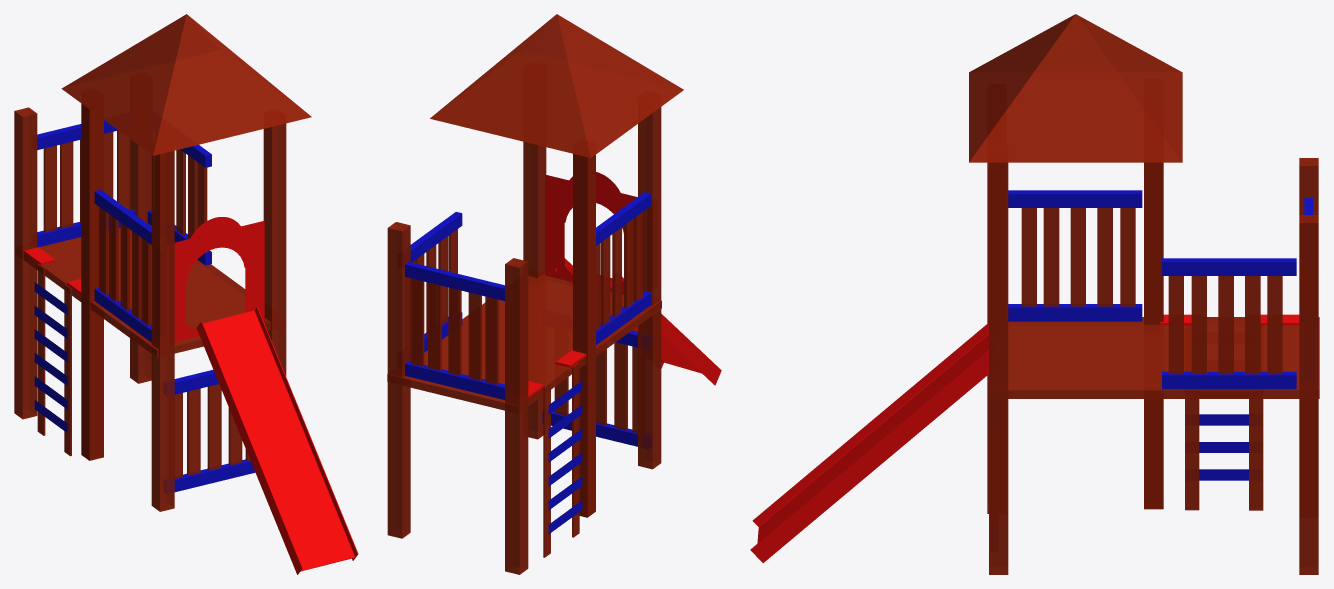
Rendered from KitR.FBX.
3 views of the same model, side by side, from view 1: azimuth 30°, elevation 25°; view 2: azimuth 150°, elevation 25°; view 3: azimuth 270°, elevation 25° (orthographic). The views are drawn at different scales.
Parts seen in each view (by area): view 1: Pyramid001, Line016, Box001, Box008, Box010, Box011, Rectangle005, Box002, Box009, Box026, Box023, Box022 (+22 smaller); view 2: Pyramid001, Box011, Box010, Box001, Box009, Box008, Box002, Rectangle005, Line016, Box030, Box033, Box027 (+20 smaller); view 3: Pyramid001, Box011, Line016, Box002, Box009, Box008, Box037, Box013, Box040, Box012, Box017, Box045 (+11 smaller).
Part boxes in pixels (x1=…): Pyramid001: x1=61, y1=14, x2=311, y2=155; Line016: x1=196, y1=307, x2=358, y2=574; Box001: x1=151, y1=150, x2=174, y2=511; Box008: x1=81, y1=103, x2=103, y2=460; Box010: x1=14, y1=107, x2=37, y2=419; Box011: x1=17, y1=217, x2=285, y2=357; Rectangle005: x1=167, y1=217, x2=264, y2=342; Box002: x1=263, y1=123, x2=286, y2=376; Box009: x1=130, y1=139, x2=151, y2=383; Box026: x1=164, y1=459, x2=255, y2=493; Box023: x1=207, y1=384, x2=221, y2=470; Box022: x1=187, y1=388, x2=200, y2=475; Pyramid001: x1=430, y1=14, x2=683, y2=157; Box011: x1=387, y1=269, x2=661, y2=413; Box010: x1=505, y1=258, x2=528, y2=574; Box001: x1=638, y1=107, x2=661, y2=469; Box009: x1=387, y1=222, x2=410, y2=538; Box008: x1=573, y1=154, x2=595, y2=517; Box002: x1=523, y1=141, x2=546, y2=439; Rectangle005: x1=545, y1=172, x2=637, y2=294; Line016: x1=555, y1=258, x2=721, y2=385; Box030: x1=405, y1=262, x2=504, y2=300; Box033: x1=405, y1=361, x2=504, y2=399; Box027: x1=410, y1=278, x2=424, y2=366; Pyramid001: x1=969, y1=14, x2=1182, y2=162; Box011: x1=990, y1=317, x2=1319, y2=398; Line016: x1=750, y1=323, x2=988, y2=562; Box002: x1=989, y1=162, x2=1008, y2=574; Box009: x1=1299, y1=215, x2=1318, y2=574; Box008: x1=1144, y1=162, x2=1163, y2=509; Box037: x1=1162, y1=258, x2=1296, y2=275; Box013: x1=1008, y1=190, x2=1142, y2=207; Box040: x1=1162, y1=371, x2=1296, y2=389; Box012: x1=1008, y1=304, x2=1142, y2=321; Box017: x1=1043, y1=208, x2=1059, y2=306; Box045: x1=1249, y1=399, x2=1263, y2=510.
Size of the model in its own units: 110 by 304 by 293.
